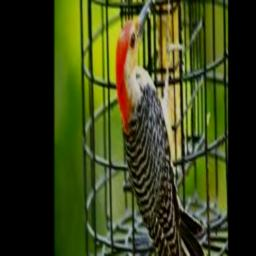Woodpecker: (115, 0, 204, 256)
